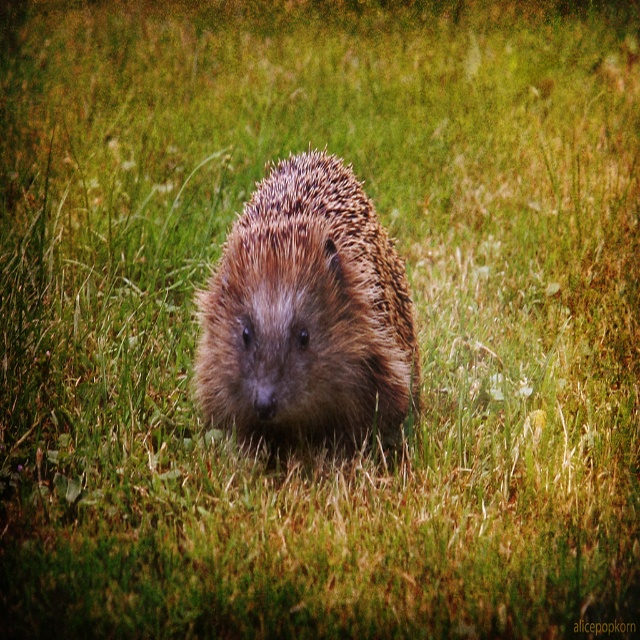Hedgehog: (189, 141, 421, 451)
